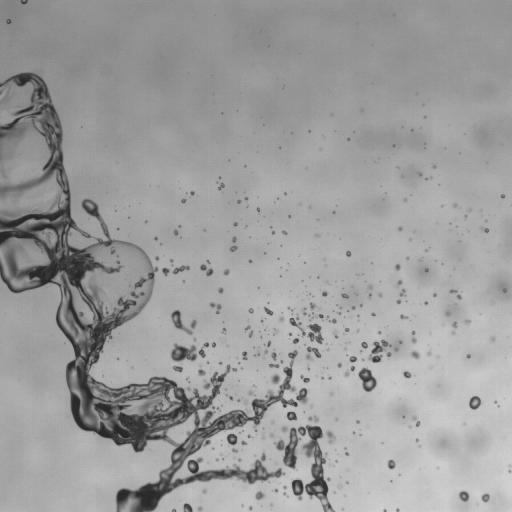droplet: (274, 416, 335, 511), (171, 310, 196, 334), (368, 339, 389, 362), (358, 367, 377, 391), (306, 346, 320, 360), (469, 396, 481, 409), (226, 433, 237, 446), (458, 490, 469, 501), (209, 302, 221, 312), (286, 411, 297, 420), (411, 350, 420, 359), (244, 326, 252, 336), (387, 459, 395, 469), (255, 491, 265, 499), (183, 503, 193, 511), (264, 307, 273, 315), (481, 493, 489, 502), (173, 365, 183, 372), (300, 375, 309, 382), (229, 244, 237, 251), (310, 302, 317, 310), (292, 336, 299, 344), (198, 367, 205, 375), (403, 371, 411, 378), (162, 268, 169, 275), (271, 351, 277, 359), (361, 342, 367, 349), (349, 356, 356, 362), (242, 351, 247, 359), (218, 183, 224, 189), (248, 390, 254, 396), (400, 289, 405, 296), (341, 293, 348, 298), (302, 307, 306, 315), (173, 229, 178, 235), (395, 264, 400, 270), (224, 269, 229, 275), (367, 285, 372, 291), (218, 287, 223, 293), (400, 314, 406, 319), (278, 316, 284, 321), (452, 322, 457, 328), (397, 280, 402, 285), (322, 291, 327, 296), (266, 341, 271, 346), (482, 228, 488, 232), (232, 236, 236, 242), (464, 319, 470, 323), (333, 332, 337, 338), (20, 0, 27, 3), (181, 198, 185, 203), (346, 251, 350, 256), (249, 308, 253, 313), (222, 328, 226, 333), (274, 329, 278, 334), (386, 352, 391, 356), (228, 396, 233, 400), (243, 400, 248, 404), (232, 448, 237, 452), (283, 485, 287, 490), (198, 506, 202, 511), (190, 191, 194, 195), (233, 222, 237, 226), (282, 230, 286, 234), (378, 293, 382, 297), (445, 311, 449, 315), (427, 351, 431, 355), (466, 354, 470, 358), (337, 363, 341, 367), (269, 433, 273, 437), (202, 489, 206, 493), (284, 493, 288, 497), (1, 171, 4, 176), (398, 226, 401, 231), (254, 353, 259, 356), (241, 441, 246, 444), (273, 489, 278, 492), (7, 19, 10, 23), (418, 172, 421, 176), (501, 194, 504, 198), (453, 203, 456, 207), (155, 256, 158, 260), (397, 299, 400, 303), (345, 328, 348, 332), (211, 343, 215, 346), (264, 350, 267, 354), (248, 435, 252, 438), (262, 434, 264, 439), (171, 509, 176, 511), (154, 237, 157, 240), (503, 289, 506, 292), (368, 294, 371, 297), (424, 301, 427, 304), (329, 463, 332, 466), (249, 506, 252, 509), (289, 332, 291, 336), (433, 165, 435, 168), (238, 200, 240, 203), (257, 209, 259, 212), (406, 257, 409, 259), (207, 260, 209, 263), (433, 294, 436, 296), (352, 306, 354, 309), (452, 331, 454, 334), (193, 338, 196, 340), (491, 338, 494, 340), (186, 377, 188, 380), (237, 399, 240, 401), (346, 452, 348, 455), (216, 458, 218, 461), (238, 458, 240, 461), (383, 509, 386, 511), (396, 509, 399, 511), (245, 197, 247, 199), (464, 215, 466, 217), (272, 231, 274, 233), (249, 260, 251, 262), (426, 269, 428, 271), (338, 312, 340, 314), (372, 313, 374, 315), (261, 319, 263, 321), (395, 349, 397, 351), (359, 351, 361, 353), (219, 362, 221, 364), (328, 376, 330, 378), (335, 418, 337, 420), (353, 431, 355, 433), (339, 486, 341, 488)
ligament: (0, 72, 306, 511), (289, 315, 324, 344), (170, 342, 209, 363), (200, 264, 213, 276), (172, 265, 189, 274), (343, 366, 354, 377), (450, 289, 461, 299), (412, 416, 420, 426), (310, 314, 323, 320), (0, 95, 8, 104), (411, 331, 416, 343), (327, 317, 336, 323), (269, 363, 278, 367), (508, 465, 511, 472), (170, 259, 173, 264), (288, 307, 292, 310)
